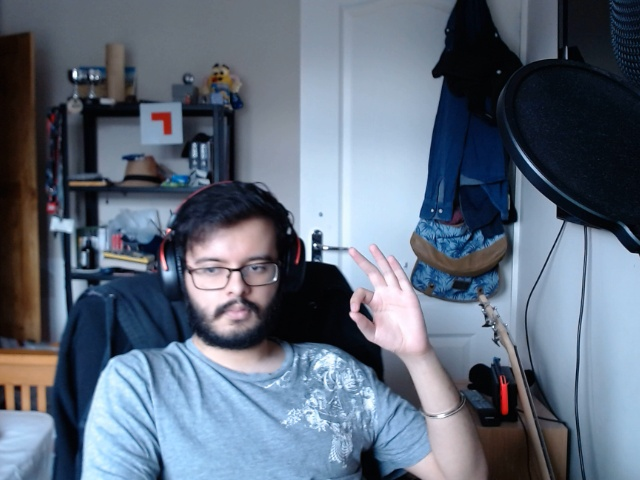Okay: (340, 233, 435, 358)
